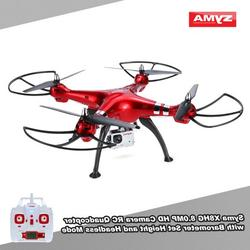drone: (7, 61, 244, 179)
